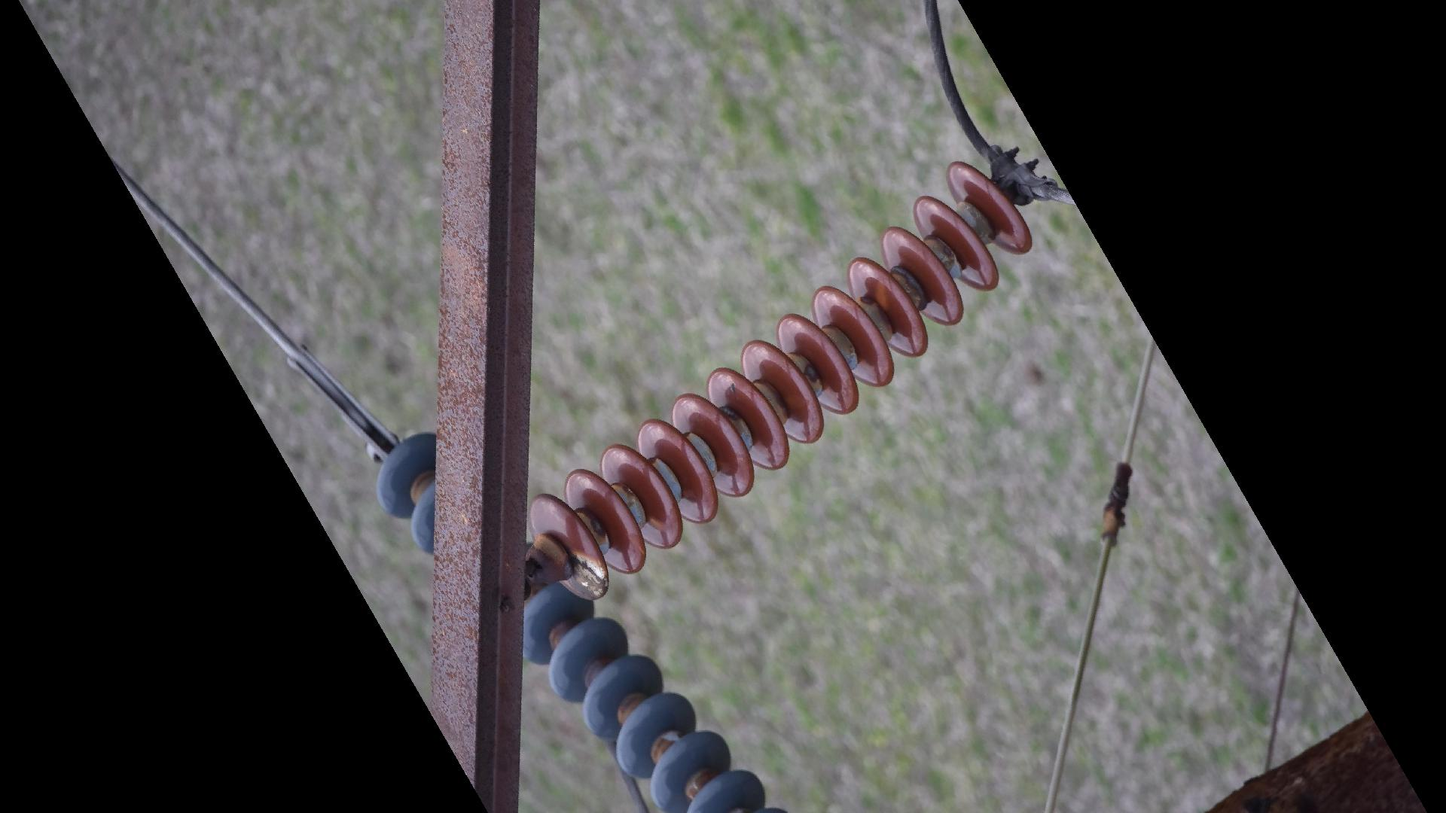insulator: (529, 157, 1037, 603), (518, 577, 798, 813), (371, 428, 449, 550)
insulator_flashover: (568, 548, 611, 601)
